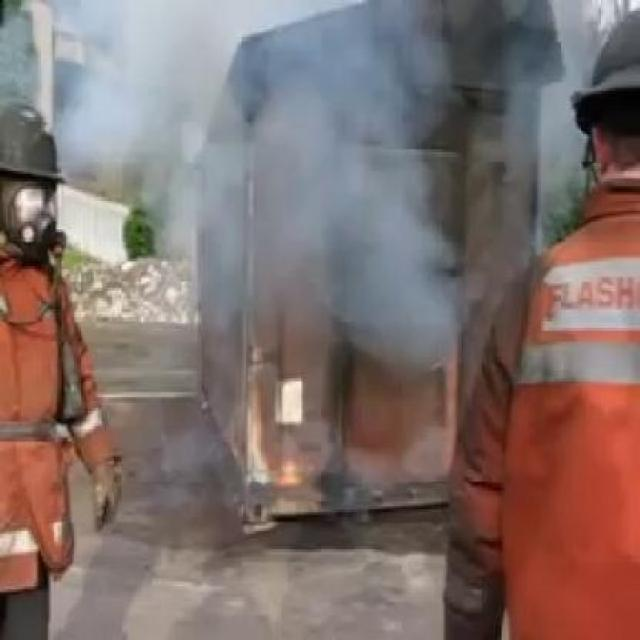smoke: (282, 34, 458, 360), (68, 2, 254, 162)
